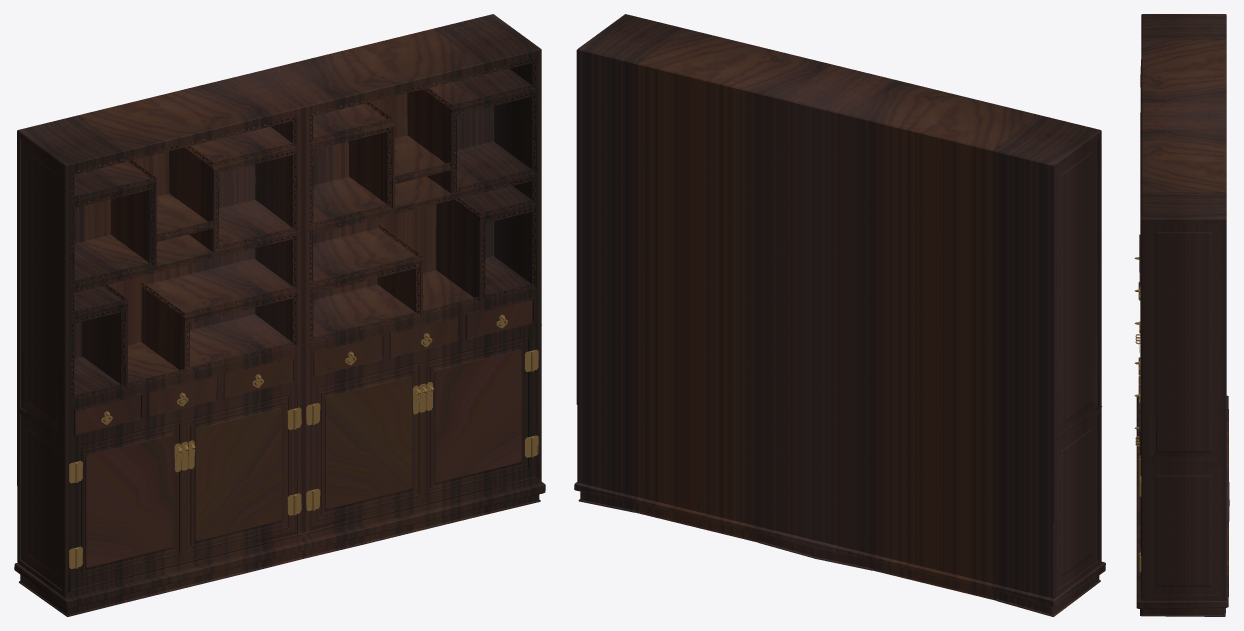
File: bookcase1.obj
3 views of the same model, side by side, from view 1: azimuth 30°, elevation 25°; view 2: azimuth 150°, elevation 25°; view 3: azimuth 270°, elevation 25° (orthographic). The views are drawn at different scales.
Visible parts, largest first — view 1: Box01.Box02, Box01; view 2: Box01.Box02, Box01; view 3: Box01, Box01.Box02.
Boxes of the visible parts, bbox=[...] form: Box01.Box02: bbox=[14, 72, 306, 616]; Box01: bbox=[256, 14, 545, 558]; Box01.Box02: bbox=[812, 72, 1105, 616]; Box01: bbox=[574, 14, 862, 558]; Box01: bbox=[1136, 116, 1229, 616]; Box01.Box02: bbox=[1136, 14, 1229, 502].
Bounding box in the file's own units: 20.01 × 18.01 × 3.89.
2 materials, 1 textured.
